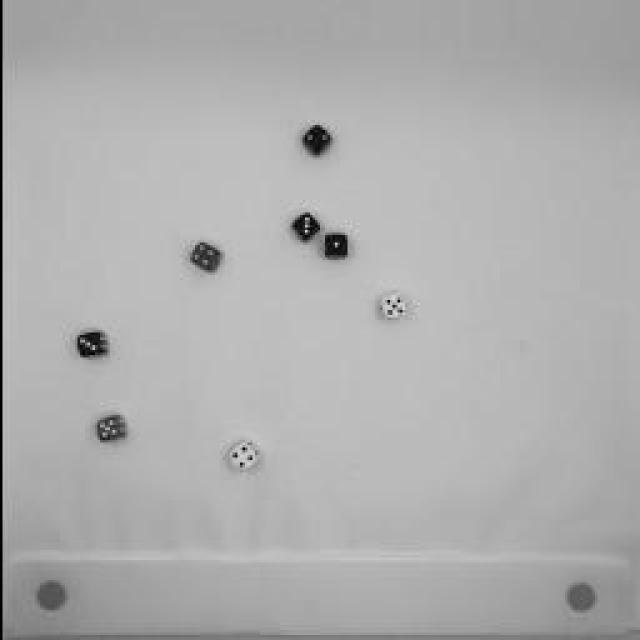dice_1: (320, 231, 350, 264)
dice_2: (297, 122, 335, 156)
dice_3: (288, 208, 322, 244), (75, 328, 110, 362)
dice_4: (225, 436, 263, 474), (188, 239, 222, 276)
dice_5: (91, 407, 129, 445), (372, 290, 408, 325)
